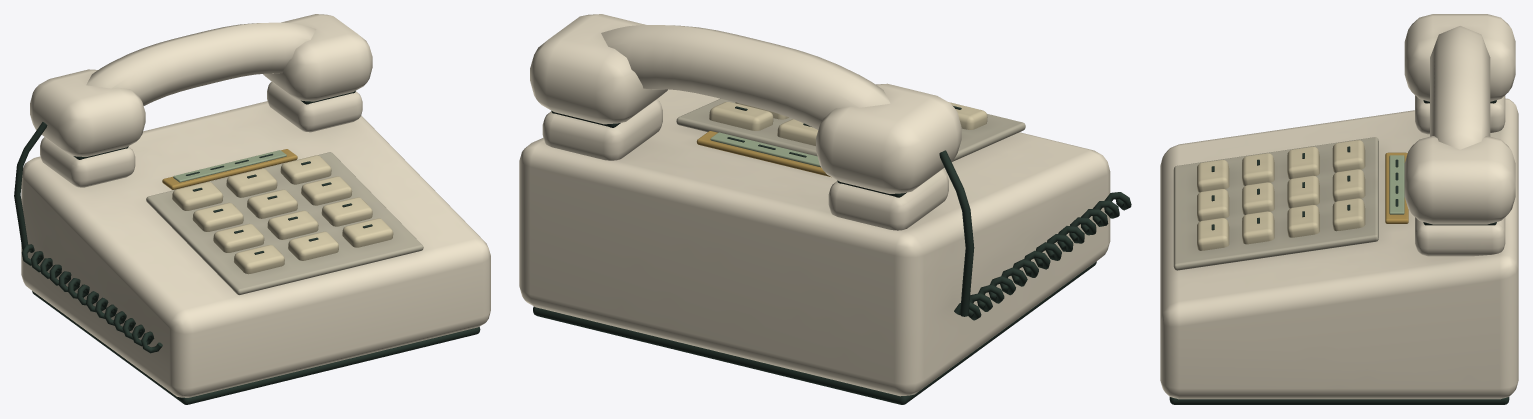
File: phone-05.gltf
3 renders of one model, left to right at view 1: azimuth 30°, elevation 25°; view 2: azimuth 150°, elevation 25°; view 3: azimuth 270°, elevation 25°, orthographic. The views are drawn at different scales.
Visible parts, largest first — view 1: phone-05; view 2: phone-05; view 3: phone-05.
Part boxes in pixels (x1,y1,x2,y2): phone-05: (14,14,490,404); phone-05: (519,14,1131,404); phone-05: (1160,14,1518,404).
Bounding box in the file's own units: 0.4627 × 0.309 × 0.38.
Materials: 6 (6 with a texture image).
